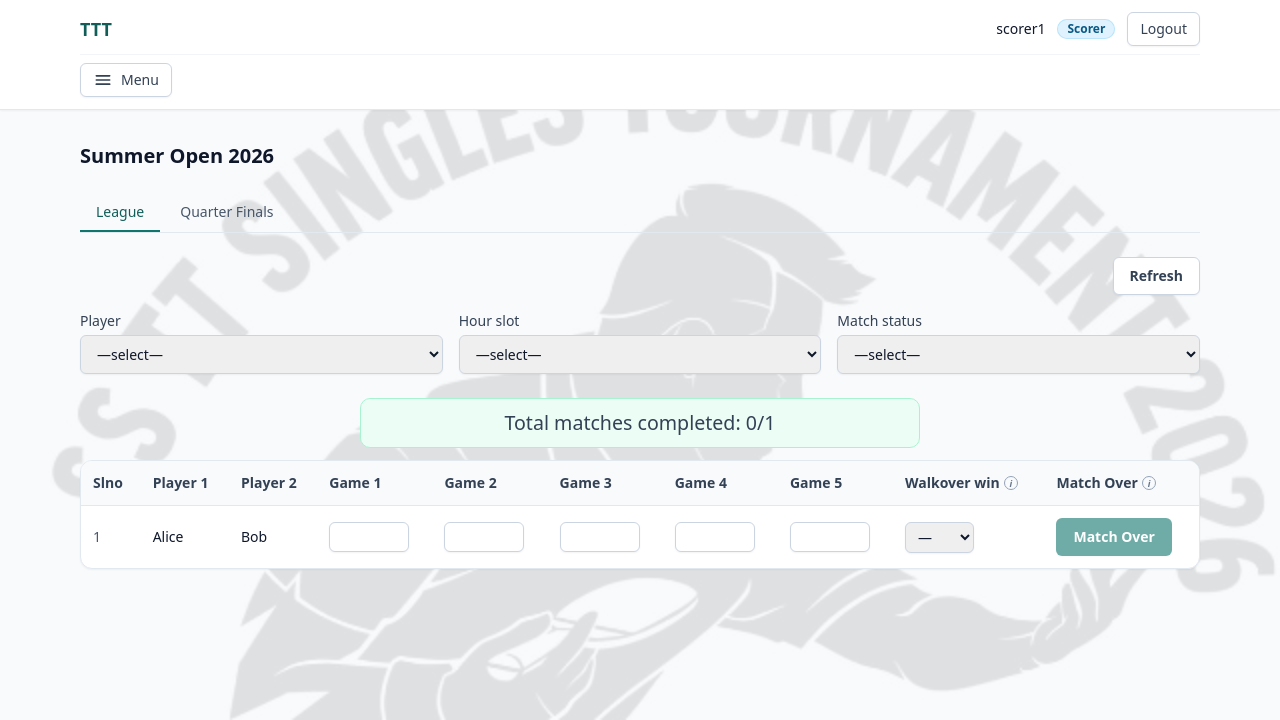
Test: Complete match › marks a match as completed when game1 and game2 give a decisive result
The width and height of the screenshot is (1280, 720).
Type "11-7" into the field named "game1 for match 1" at (369, 538), box top-left (329, 522), bottom-right (409, 552)
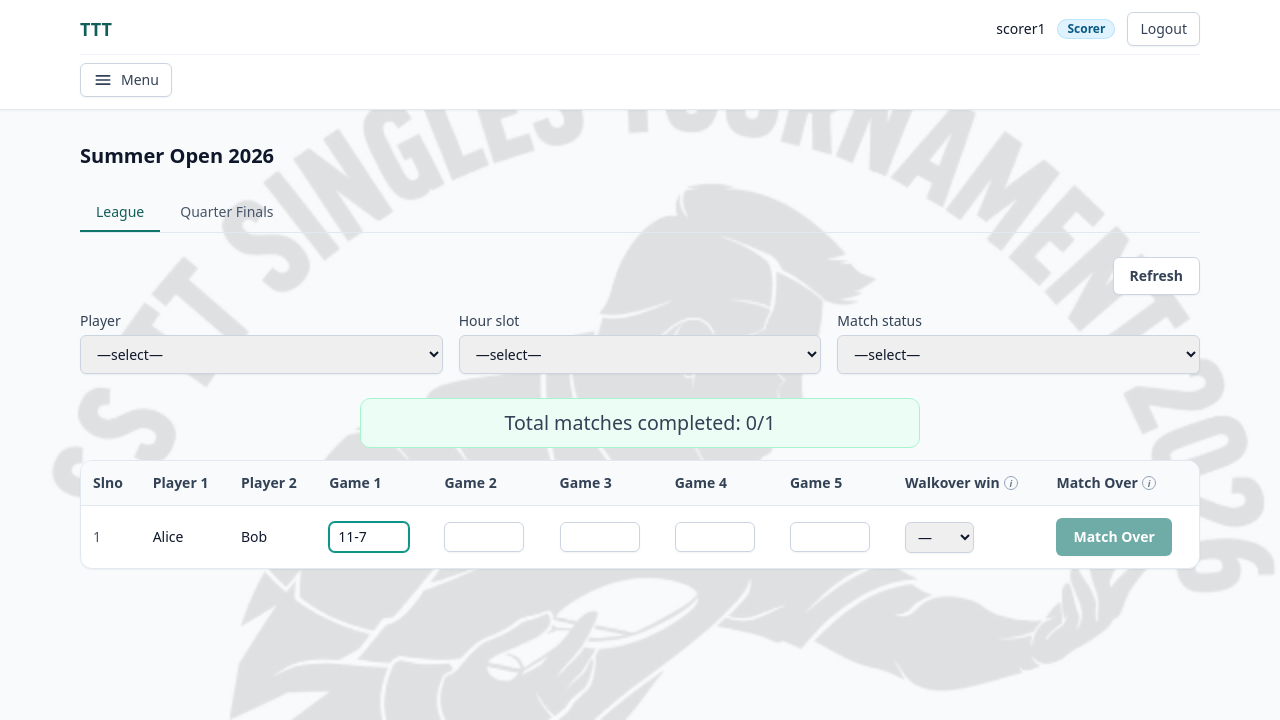
Press Tab
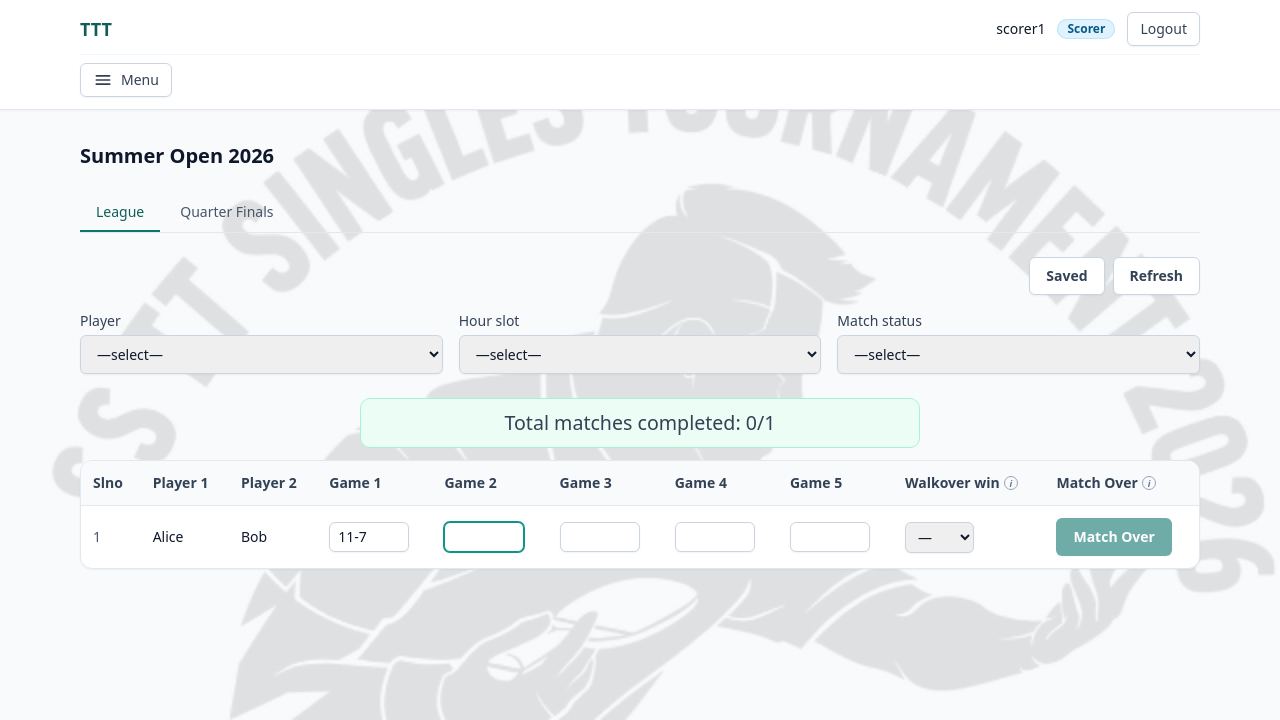
Type "11-5" into the field named "game2 for match 1" at (484, 538), box top-left (444, 522), bottom-right (524, 552)
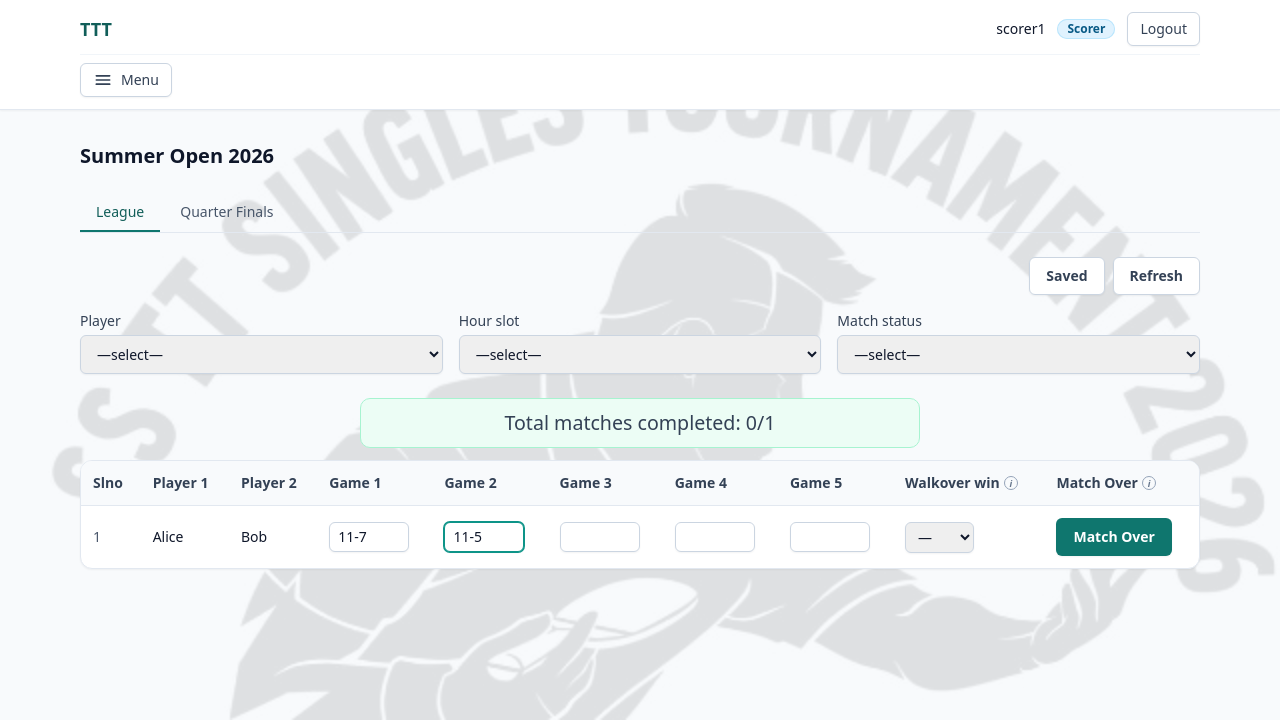
Press Tab
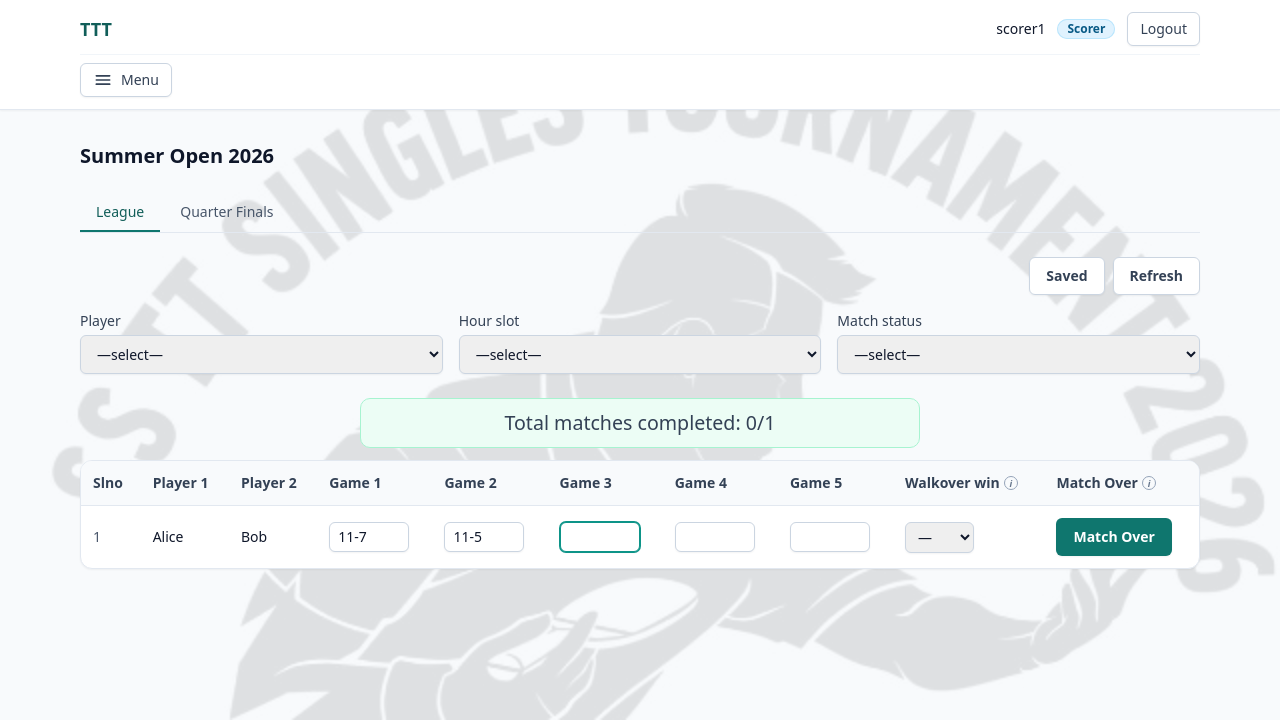
Click the button "Match Over" at (1114, 538), box top-left (1056, 518), bottom-right (1172, 556)
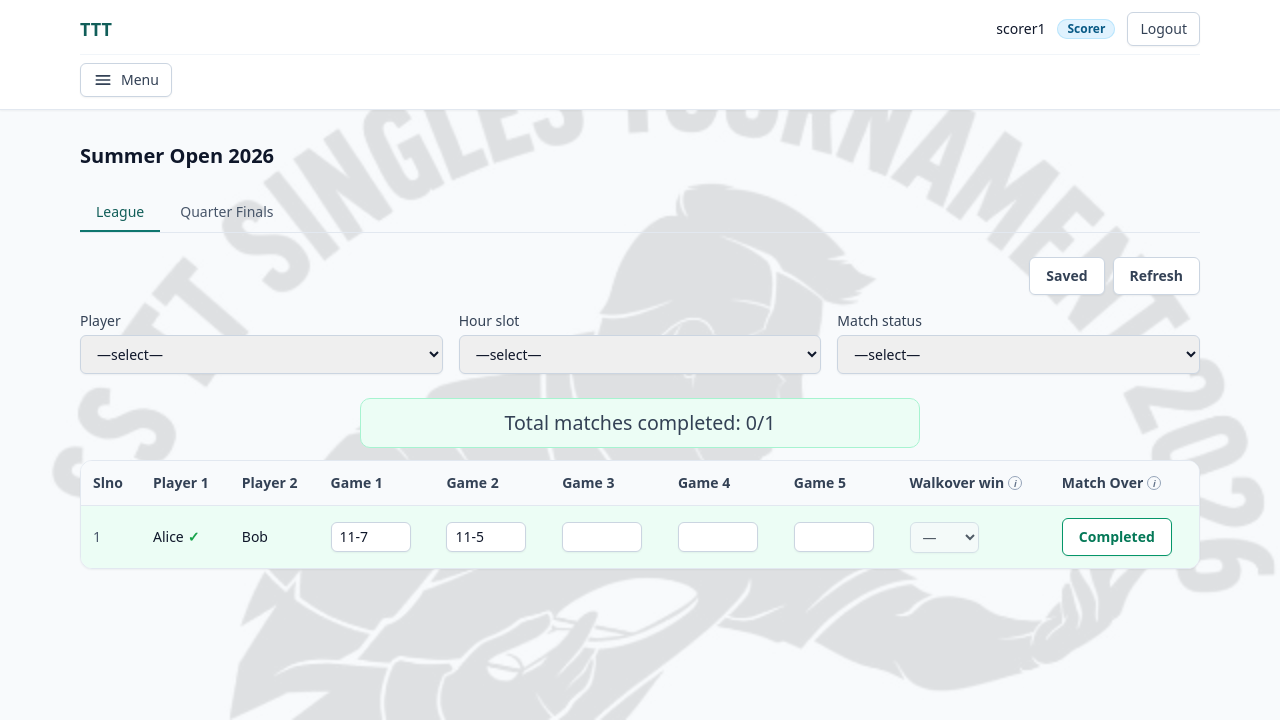
expect the button "Completed" is disabled: met, box top-left (1062, 518), bottom-right (1172, 556)
